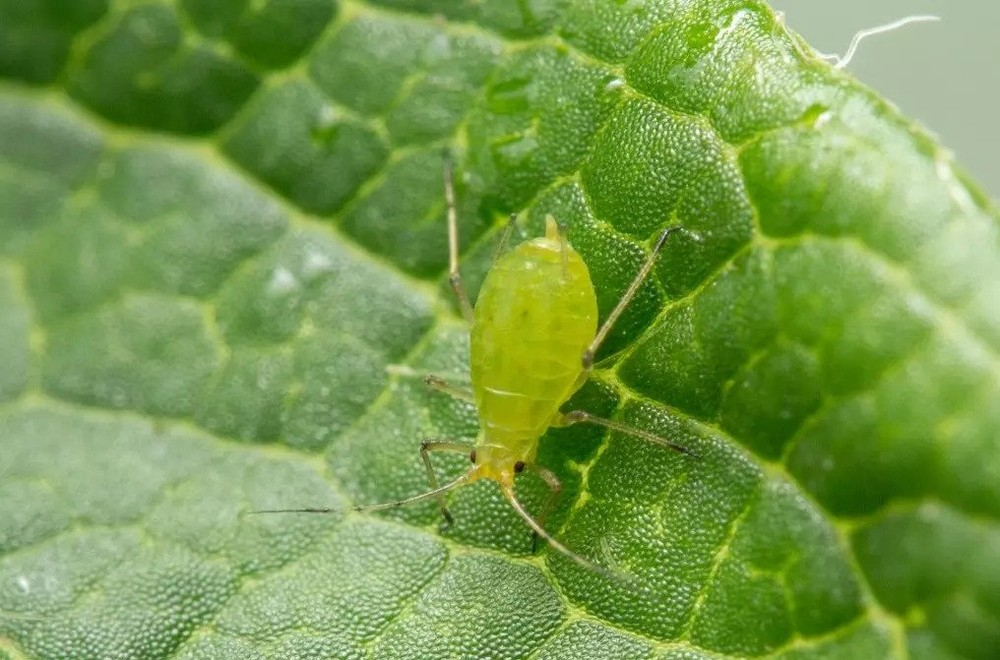Pulgon: (349, 171, 695, 590)
